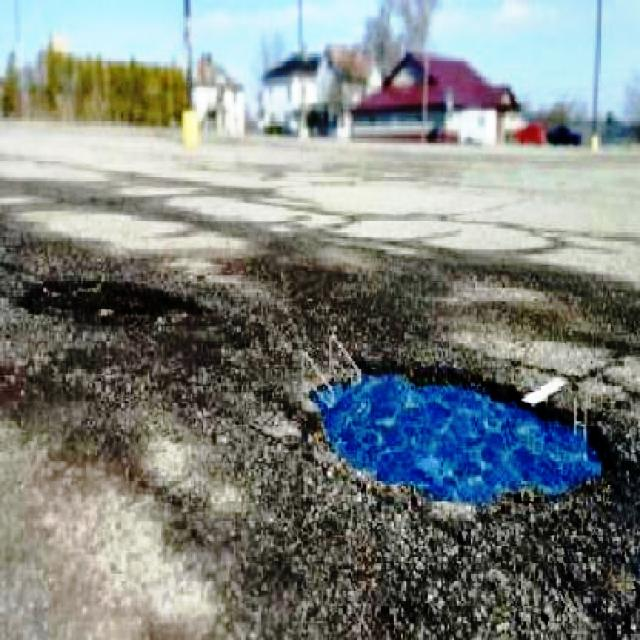pothole: (294, 346, 629, 511), (16, 274, 204, 332)
